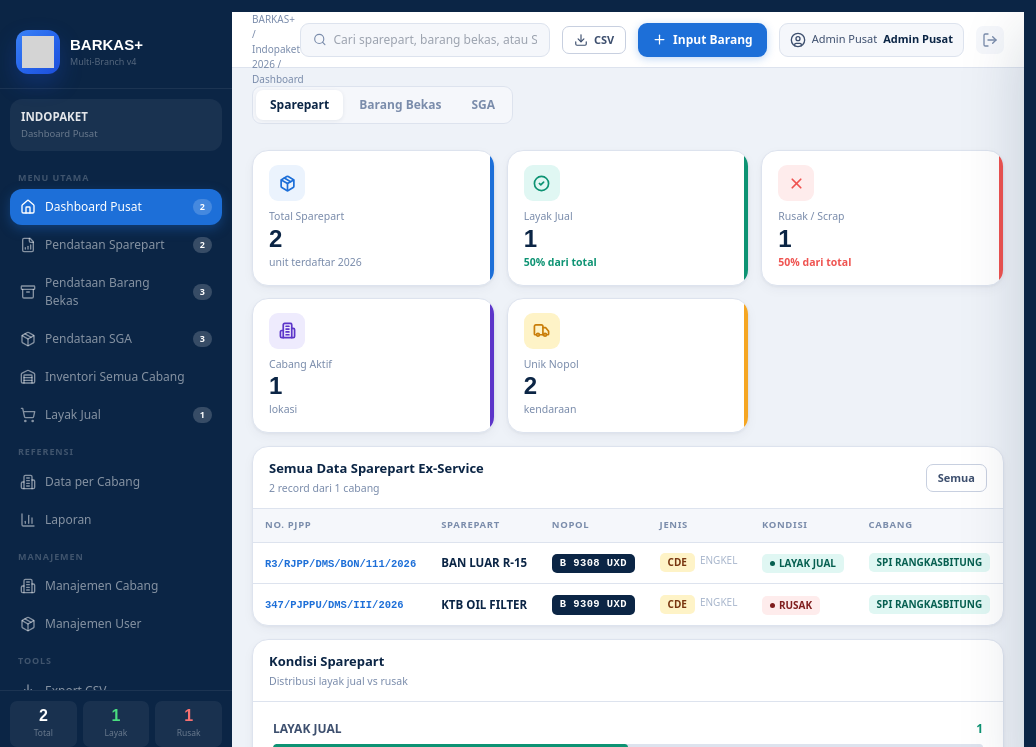
Test case: BarkasApp v3 UI › shows dashboard tabs and used goods dashboard content
Expected: the text "Total Sparepart" is shown, x1=269 y1=209 x2=344 y2=223
Expected: the button "SGA" is shown, x1=458 y1=90 x2=509 y2=120
Click the button "Barang Bekas".
click(400, 105)  # box x1=345 y1=90 x2=456 y2=120
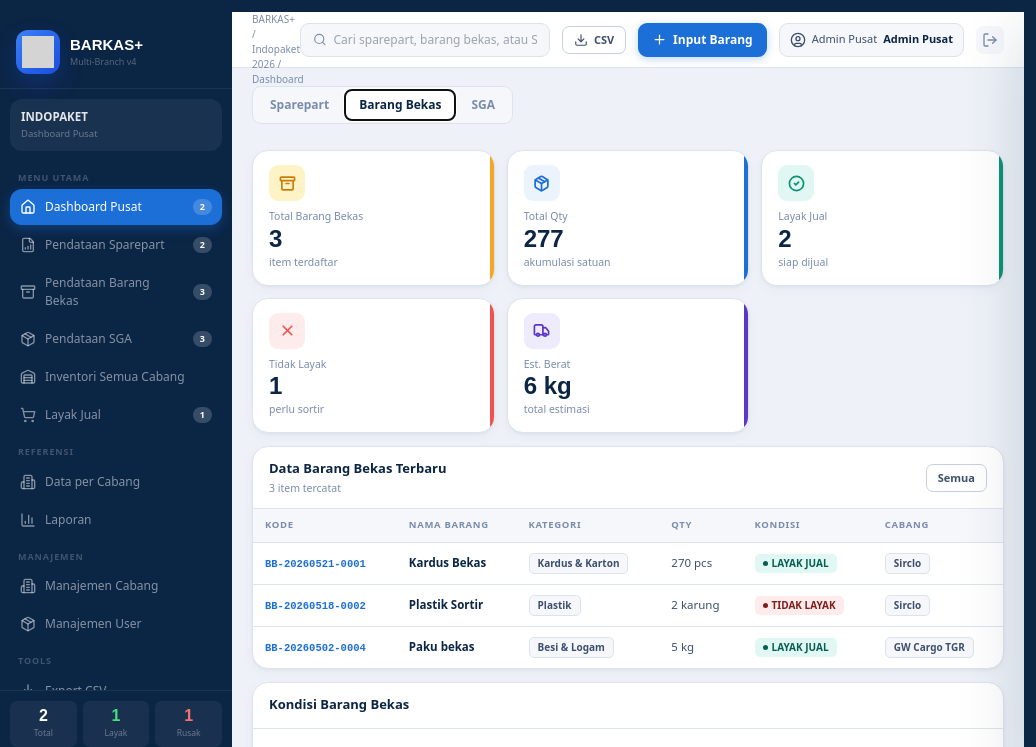
Expected: the text "Total Barang Bekas" is shown, x1=269 y1=209 x2=363 y2=223
Expected: the text "Data Barang Bekas Terbaru" is shown, x1=269 y1=459 x2=446 y2=478
Expected: the text "Kardus Bekas" is shown, x1=409 y1=555 x2=486 y2=570
Click the button "SGA".
click(483, 105)  # box x1=458 y1=90 x2=509 y2=120
(page scrolled)
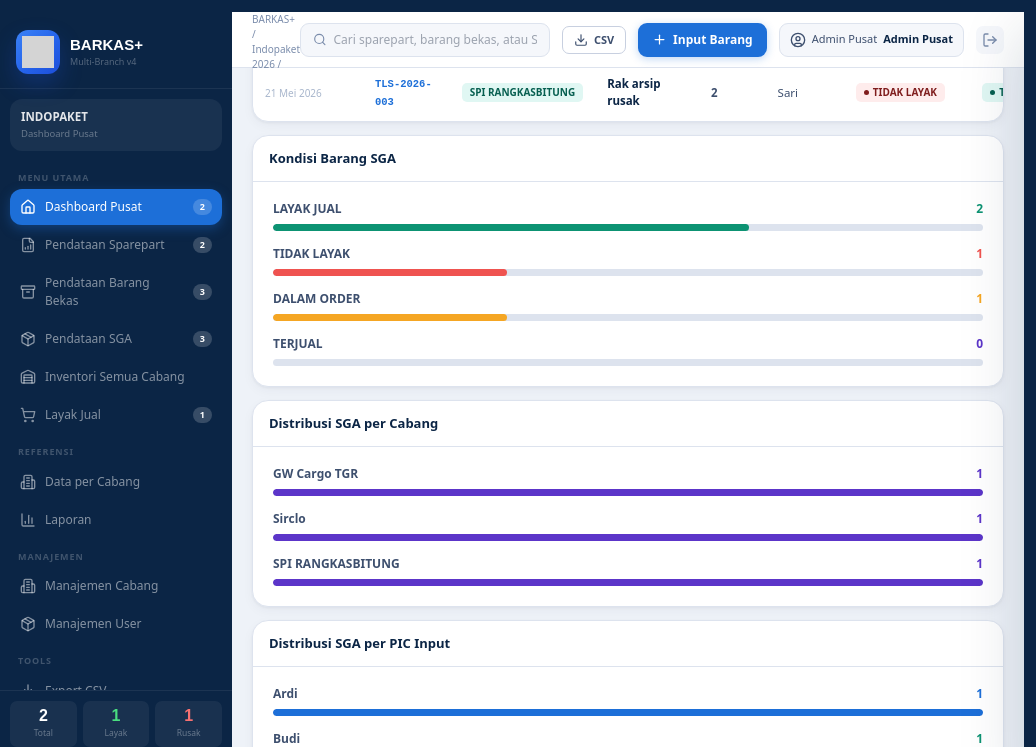
Expected: the text "Distribusi SGA per Cabang" is shown, x1=269 y1=414 x2=438 y2=433
